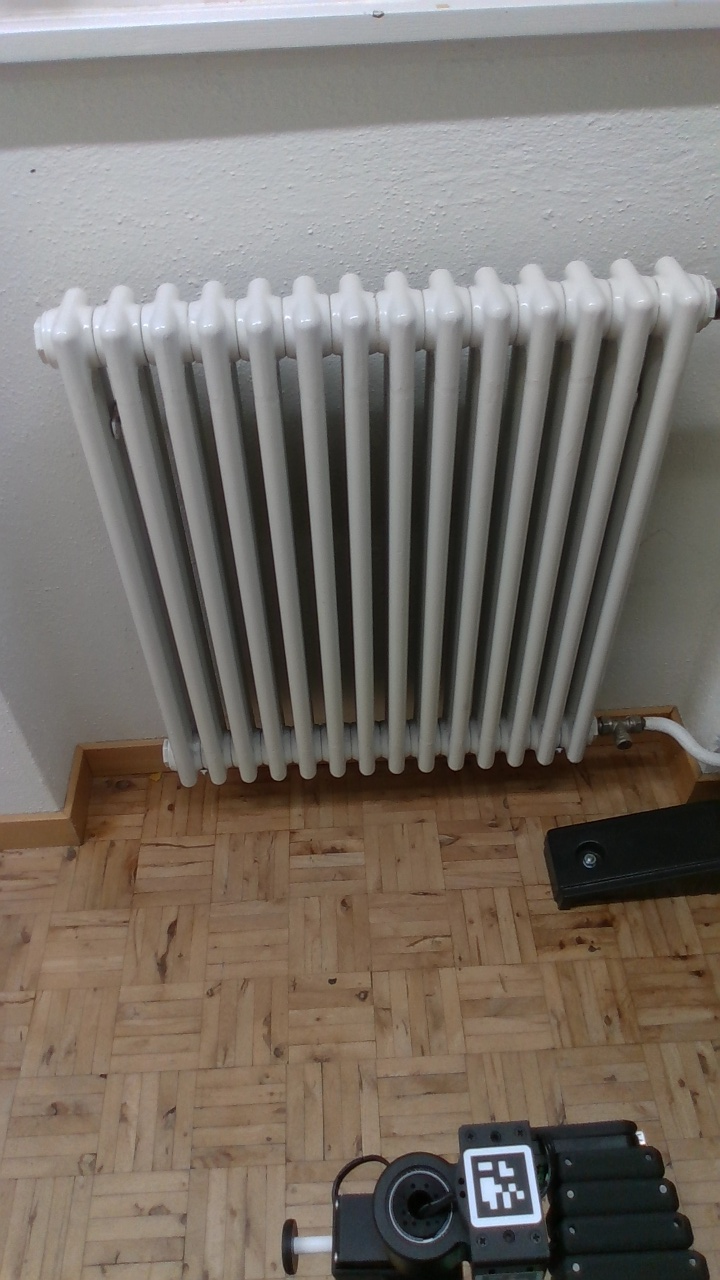Radiator: (24, 241, 720, 797)
